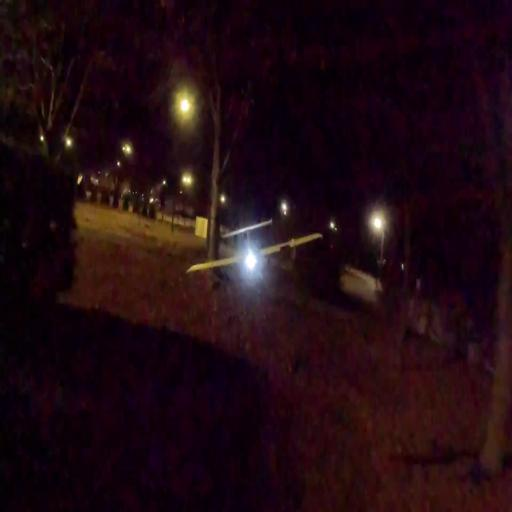uav: (186, 212, 325, 293)
